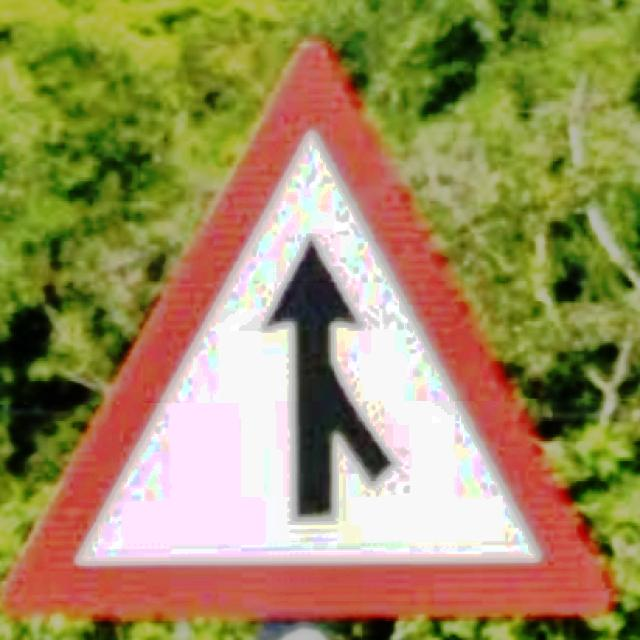rightmerge: (3, 38, 612, 622)
